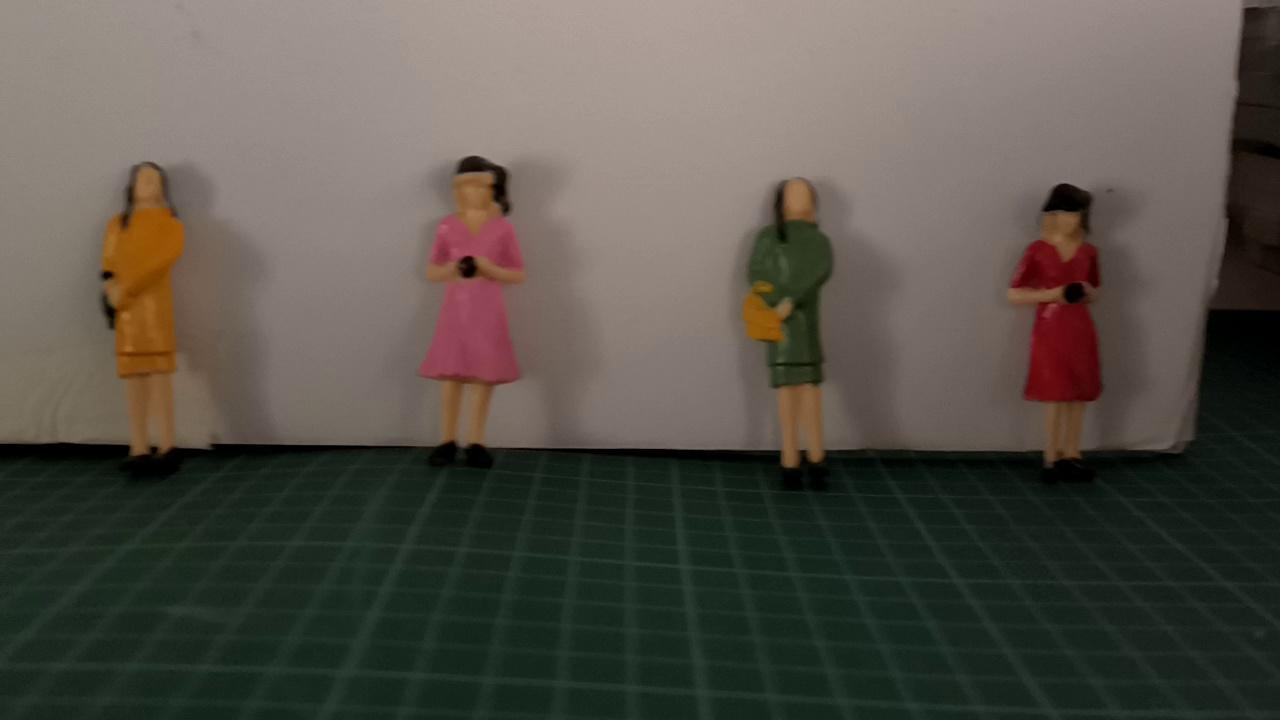human: (419, 155, 531, 473), (738, 173, 838, 485), (1005, 180, 1112, 468), (96, 159, 194, 466)
